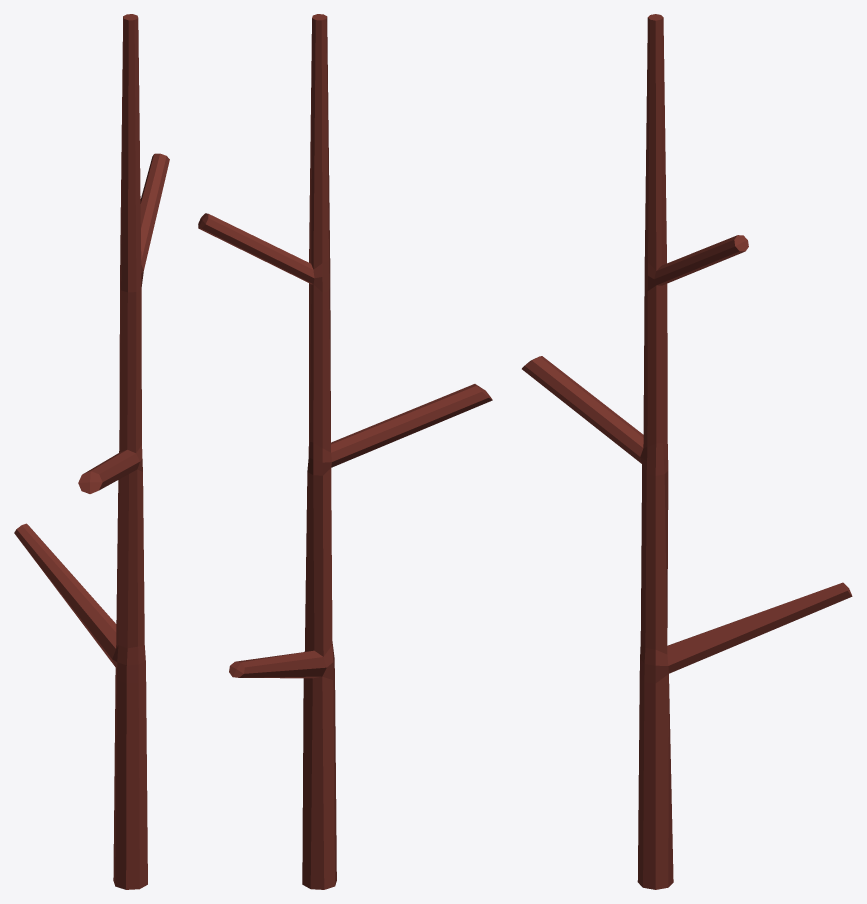
The model's file is Ancient_Tree.fbx.
The picture shows the model from 3 angles, left to right: view 1: azimuth 30°, elevation 25°; view 2: azimuth 150°, elevation 25°; view 3: azimuth 270°, elevation 25°; orthographic projection.
Visible parts, largest first — view 1: Ancient Tree; view 2: Ancient Tree; view 3: Ancient Tree.
Boxes of the visible parts, box(x1,y1,x2,y2) form: Ancient Tree: box(14, 14, 169, 889); Ancient Tree: box(198, 14, 492, 889); Ancient Tree: box(522, 14, 852, 889).
Bounding box in the file's own units: 1836 × 7965 × 2763.
